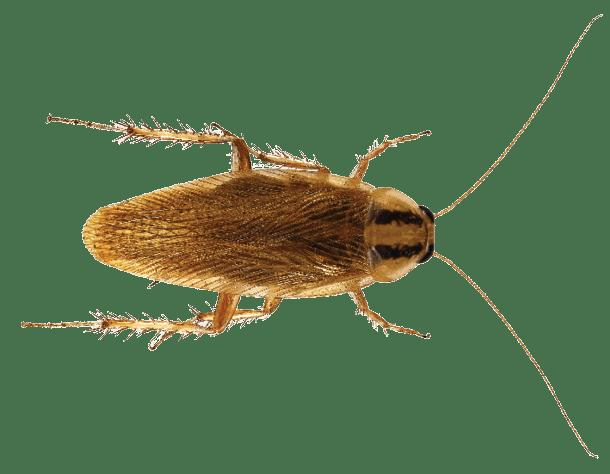cockroach: (80, 139, 445, 335)
